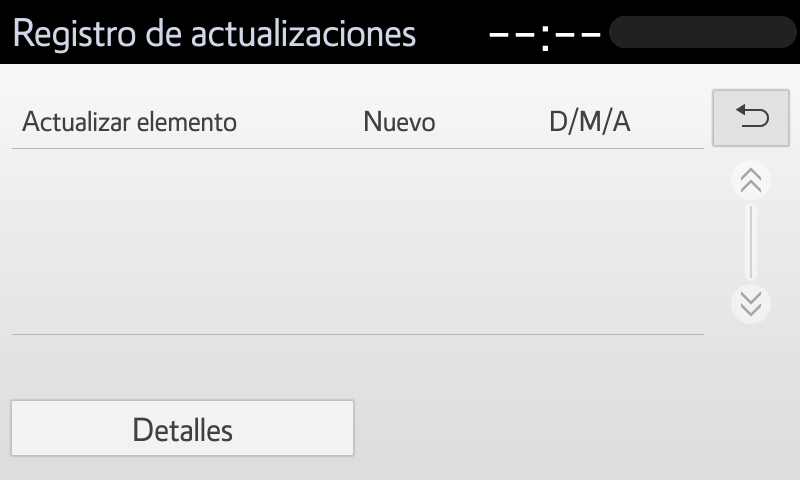touchPart: (7, 392, 364, 463), (710, 87, 795, 149)
untouchPart: (9, 98, 708, 342), (9, 13, 422, 54), (474, 9, 795, 52), (730, 162, 776, 198), (733, 284, 774, 324)
